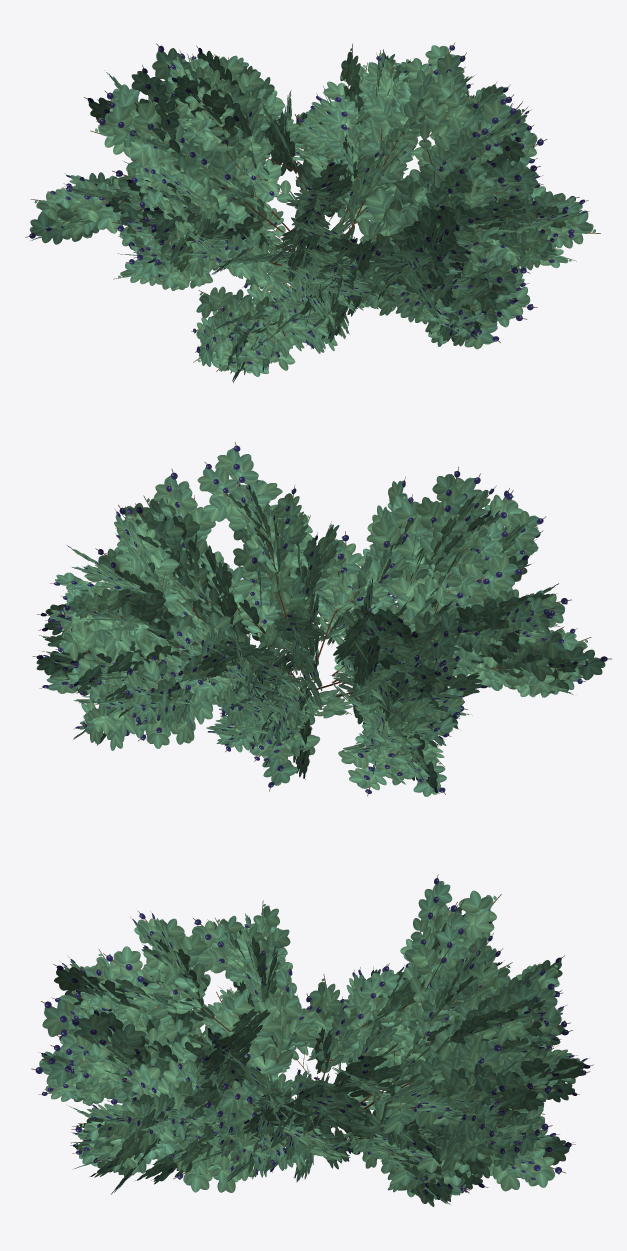
Rendered from bilberry_low_v02_LOD1.glb.
3 renders of one model, top to bottom at view 1: azimuth 30°, elevation 25°; view 2: azimuth 150°, elevation 25°; view 3: azimuth 270°, elevation 25°, orthographic. The views are drawn at different scales.
Parts seen in each view (by area): view 1: bilberry_low_v02_LOD1; view 2: bilberry_low_v02_LOD1; view 3: bilberry_low_v02_LOD1.
Part boxes in pixels (x1,y1,x2,y2): bilberry_low_v02_LOD1: (25, 42, 600, 382); bilberry_low_v02_LOD1: (32, 442, 611, 796); bilberry_low_v02_LOD1: (31, 874, 593, 1206).
Size of the model in its own units: 0.9452 by 0.5 by 1.05.
2 materials, 2 textured.
